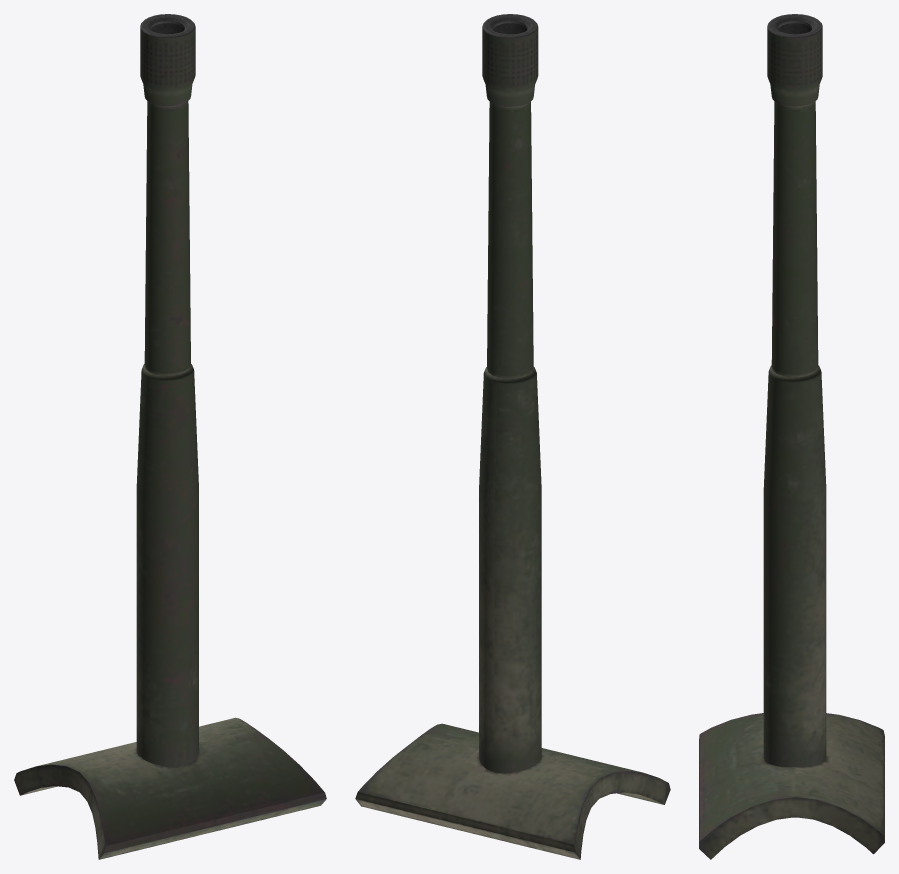
The model's file is Gun_03.glb.
The picture shows the model from 3 angles, left to right: view 1: azimuth 30°, elevation 25°; view 2: azimuth 150°, elevation 25°; view 3: azimuth 270°, elevation 25°; orthographic projection.
Parts seen in each view (by area): view 1: set_0_group_0; view 2: set_0_group_0; view 3: set_0_group_0.
Boxes of the visible parts, x1,y1,x2,y2 form: set_0_group_0: [14, 14, 326, 859]; set_0_group_0: [355, 14, 670, 859]; set_0_group_0: [699, 14, 884, 859].
Size of the model in its own units: 0.8136 by 2.72 by 0.5863.
Materials: 1 (1 with a texture image).
